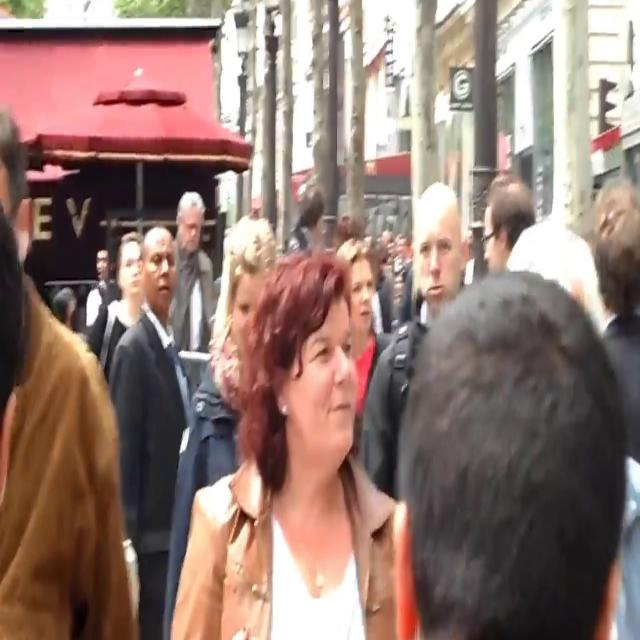body: (165, 244, 429, 639), (388, 267, 628, 640), (0, 104, 138, 639), (165, 214, 279, 640), (359, 180, 471, 508), (112, 226, 194, 640), (589, 175, 640, 462), (336, 236, 394, 458), (332, 195, 418, 338), (87, 232, 145, 384), (0, 196, 28, 506), (165, 183, 215, 349), (44, 244, 116, 354), (478, 170, 537, 274), (283, 182, 325, 262)
